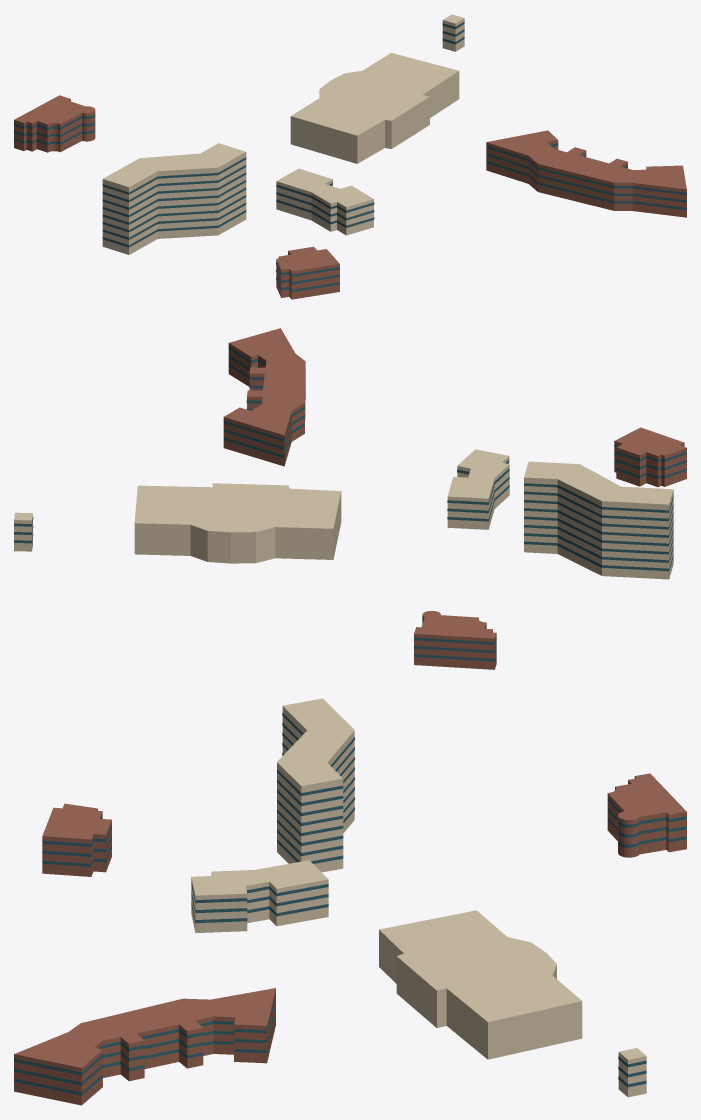
Rendered from city_6_-6.glb.
The picture shows the model from 3 angles, top to bottom: view 1: azimuth 30°, elevation 25°; view 2: azimuth 150°, elevation 25°; view 3: azimuth 270°, elevation 25°; orthographic projection. The views are drawn at different scales.
Parts seen in each view (by area): view 1: city_6_-6; view 2: city_6_-6; view 3: city_6_-6.
Boxes of the visible parts, x1=… form: city_6_-6: x1=14, y1=14, x2=686, y2=299; city_6_-6: x1=14, y1=328, x2=686, y2=669; city_6_-6: x1=14, y1=698, x2=686, y2=1105.
Size of the model in its own units: 272 by 36 by 244.
